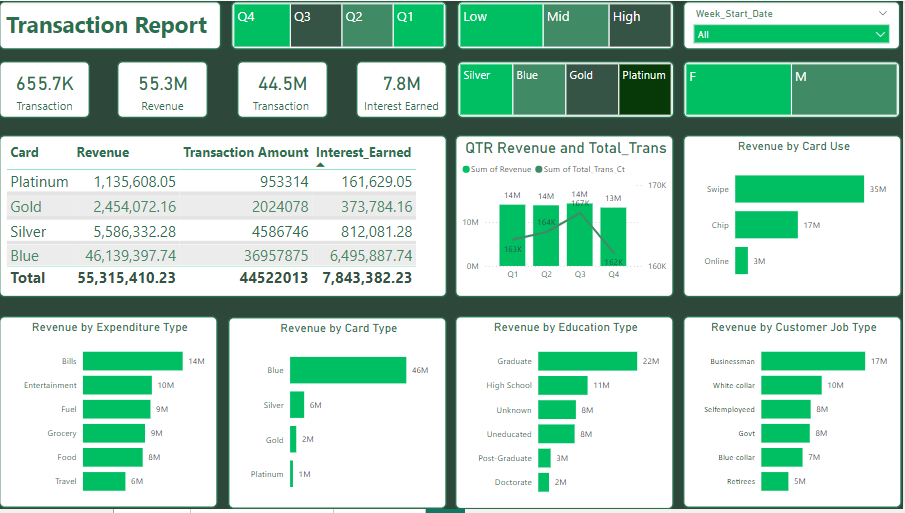

This screenshot's page, from the dashboard's own definition file:
{"tool":"powerbi","page":{"name":"Transaction Report","canvas":[1280,720],"ordinal":1},"visuals":[{"type":"lineStackedColumnComboChart","title":"QTR Revenue and Total_Trans","fields":{"Category":["ccdb cc_detail.Qtr"],"Y":["Sum(ccdb cc_detail.Revenue)"],"Y2":["Sum(ccdb cc_detail.Total_Trans_Ct)"]},"box":[646.3,189.9,310.4,229.6],"z":0},{"type":"textbox","box":[0,0,314.9,68.8],"z":1000},{"type":"barChart","title":"Revenue by Expenditure Type","fields":{"Category":["ccdb cc_detail.Exp_Type"],"Y":["Sum(ccdb cc_detail.Revenue)"]},"box":[0,446.5,310.4,272.1],"z":2000},{"type":"barChart","title":"Revenue by Education Type","fields":{"Category":["ccdb cust_detail.Education_Level"],"Y":["Sum(ccdb cc_detail.Revenue)"]},"box":[646.3,446.5,310.4,273.5],"z":3000},{"type":"barChart","title":"Revenue by Customer Job Type","fields":{"Category":["ccdb cust_detail.Customer_Job"],"Y":["Sum(ccdb cc_detail.Revenue)"]},"box":[969.4,446.5,310.4,272.1],"z":4000},{"type":"barChart","title":"Revenue by Card Type","fields":{"Category":["ccdb cc_detail.Card_Category"],"Y":["Sum(ccdb cc_detail.Revenue)"]},"box":[324.6,447.9,310.4,272.1],"z":5000},{"type":"barChart","title":"Revenue by Card Use","fields":{"Category":["ccdb cc_detail.Use_Chip"],"Y":["Sum(ccdb cc_detail.Revenue)"]},"box":[969.4,189.9,310.4,229.6],"z":6000},{"type":"tableEx","fields":{"Values":["ccdb cc_detail.Card_Category","Sum(ccdb cc_detail.Revenue)","Sum(ccdb cc_detail.Total_Trans_Amt)","Sum(ccdb cc_detail.Interest_Earned)"]},"box":[0,189.9,635,229.6],"z":7000},{"type":"card","fields":{"Values":["Sum(ccdb cc_detail.Revenue)"]},"box":[167.2,85,129,80.8],"z":8000},{"type":"card","fields":{"Values":["Sum(ccdb cc_detail.Total_Trans_Amt)"]},"box":[337.3,85,129,80.8],"z":9000},{"type":"card","fields":{"Values":["Sum(ccdb cc_detail.Interest_Earned)"]},"box":[506,85,129,80.8],"z":10000},{"type":"card","fields":{"Values":["Sum(ccdb cc_detail.Total_Trans_Ct)"]},"box":[0,85,129,80.8],"z":11000},{"type":"slicer","fields":{"Values":["ccdb cc_detail.Week_Start_Date"]},"box":[969.4,0,307.6,69.4],"z":12000},{"type":"treemap","fields":{"Group":["ccdb cc_detail.Qtr"],"Values":["Median(ccdb cc_detail.Client_Num)"]},"box":[328.8,0,306.1,69.4],"z":13000},{"type":"treemap","fields":{"Values":["Median(ccdb cc_detail.Client_Num)"],"Group":["ccdb cust_detail.Gender"]},"box":[969.4,85,307.6,80.8],"z":14000},{"type":"treemap","fields":{"Values":["Avg(ccdb cc_detail.Client_Num)"],"Group":["ccdb cc_detail.Card_Category"]},"box":[649.1,85,307.6,80.8],"z":15000},{"type":"treemap","fields":{"Values":["Sum(ccdb cc_detail.Client_Num)"],"Group":["ccdb cust_detail.IncomeGroup"]},"box":[649.1,0,307.6,69.4],"z":16000}]}

Visuals, with their boxes in screenshot pixels (x1, y1, x2, y2), scaled from the page's 1280x720 canvas onto the 905x513 screenshot:
"QTR Revenue and Total_Trans" lineStackedColumnComboChart: box(457, 135, 676, 299)
textbox: box(0, 0, 223, 49)
"Revenue by Expenditure Type" barChart: box(0, 318, 219, 512)
"Revenue by Education Type" barChart: box(457, 318, 676, 512)
"Revenue by Customer Job Type" barChart: box(685, 318, 904, 512)
"Revenue by Card Type" barChart: box(230, 319, 449, 512)
"Revenue by Card Use" barChart: box(685, 135, 904, 299)
tableEx - ccdb cc_detail.Card_Category x Sum(ccdb cc_detail.Revenue): box(0, 135, 449, 299)
card - Sum(ccdb cc_detail.Revenue): box(118, 61, 209, 118)
card - Sum(ccdb cc_detail.Total_Trans_Amt): box(238, 61, 330, 118)
card - Sum(ccdb cc_detail.Interest_Earned): box(358, 61, 449, 118)
card - Sum(ccdb cc_detail.Total_Trans_Ct): box(0, 61, 91, 118)
slicer - ccdb cc_detail.Week_Start_Date: box(685, 0, 903, 49)
treemap - ccdb cc_detail.Qtr x Median(ccdb cc_detail.Client_Num): box(232, 0, 449, 49)
treemap - Median(ccdb cc_detail.Client_Num) x ccdb cust_detail.Gender: box(685, 61, 903, 118)
treemap - Avg(ccdb cc_detail.Client_Num) x ccdb cc_detail.Card_Category: box(459, 61, 676, 118)
treemap - Sum(ccdb cc_detail.Client_Num) x ccdb cust_detail.IncomeGroup: box(459, 0, 676, 49)
